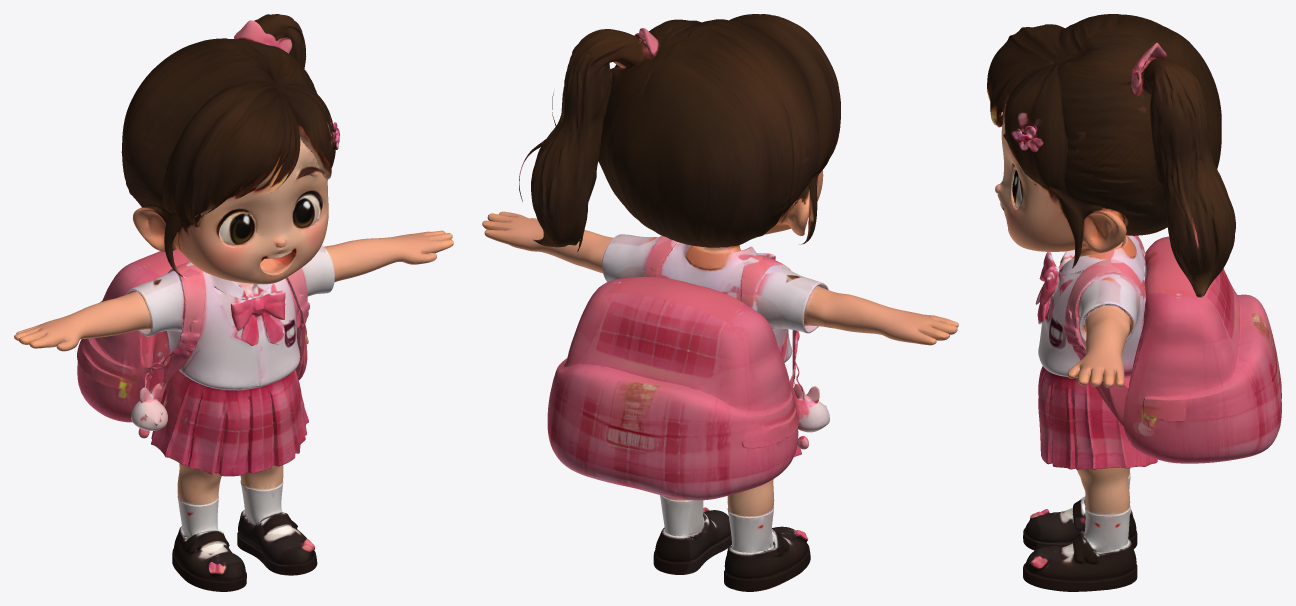
The model's file is cewek.glb.
3 views of the same model, side by side, from view 1: azimuth 30°, elevation 25°; view 2: azimuth 150°, elevation 25°; view 3: azimuth 270°, elevation 25° (orthographic). The views are drawn at different scales.
Visible parts, largest first — view 1: model; view 2: model; view 3: model.
Boxes of the visible parts, left/top/right/bottom form: model: left=14, top=14, right=453, bottom=591; model: left=482, top=14, right=958, bottom=591; model: left=987, top=14, right=1281, bottom=591.
Bounding box in the file's own units: 1.69 × 1.9 × 0.9389.
Materials: 1 (1 with a texture image).
